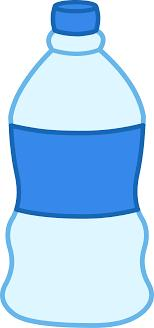bottle: (1, 0, 154, 325)
